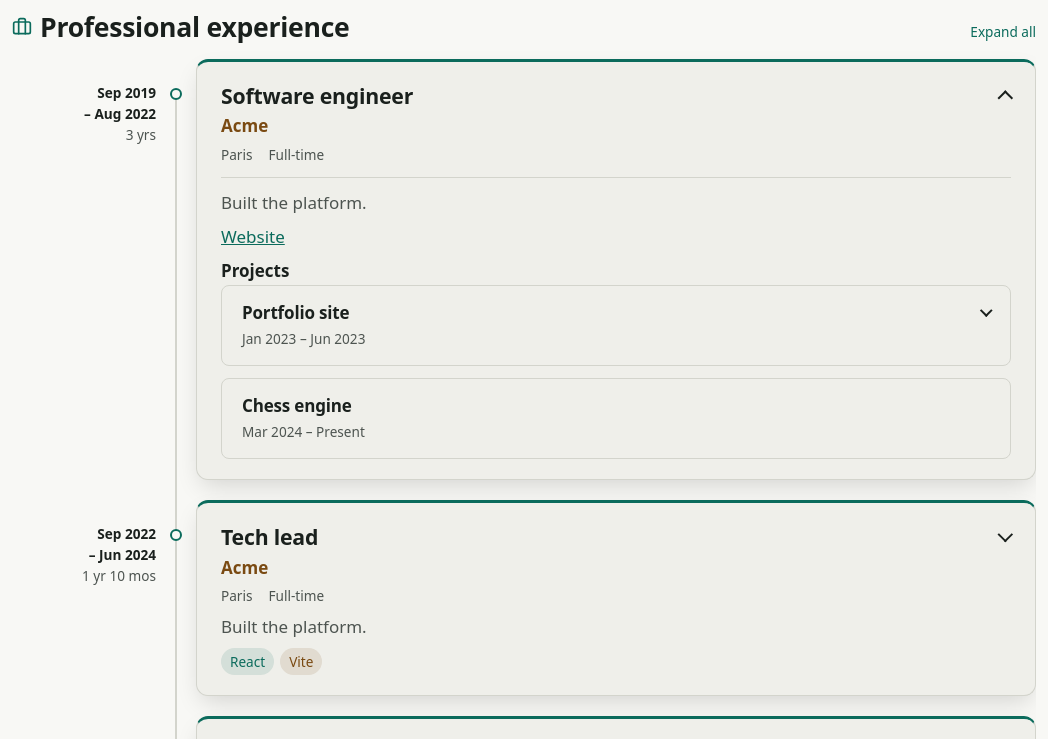
ExperienceSection › collapses and expands every experience at once
This screenshot has width=1048, height=739.
Click the button "Expand all": (999, 32) x1=962 y1=17 x2=1036 y2=46
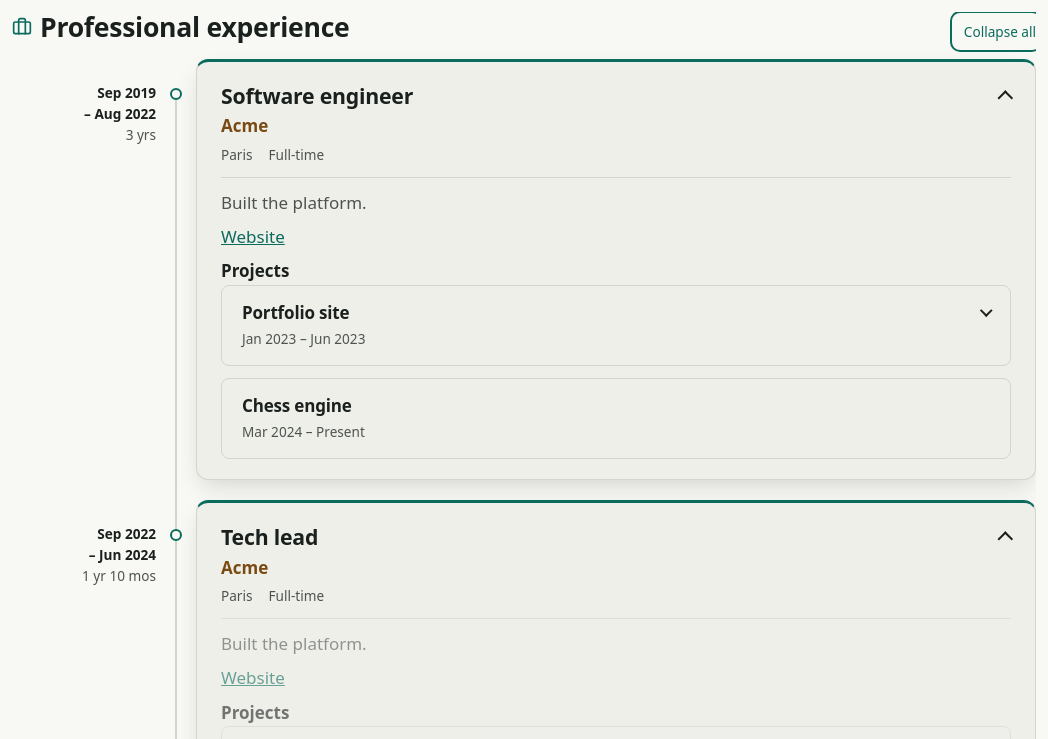
Expected: the button "Tech lead" is expanded, x1=221 y1=523 x2=1011 y2=550
Click the button "Collapse all": (996, 32) x1=956 y1=17 x2=1036 y2=46
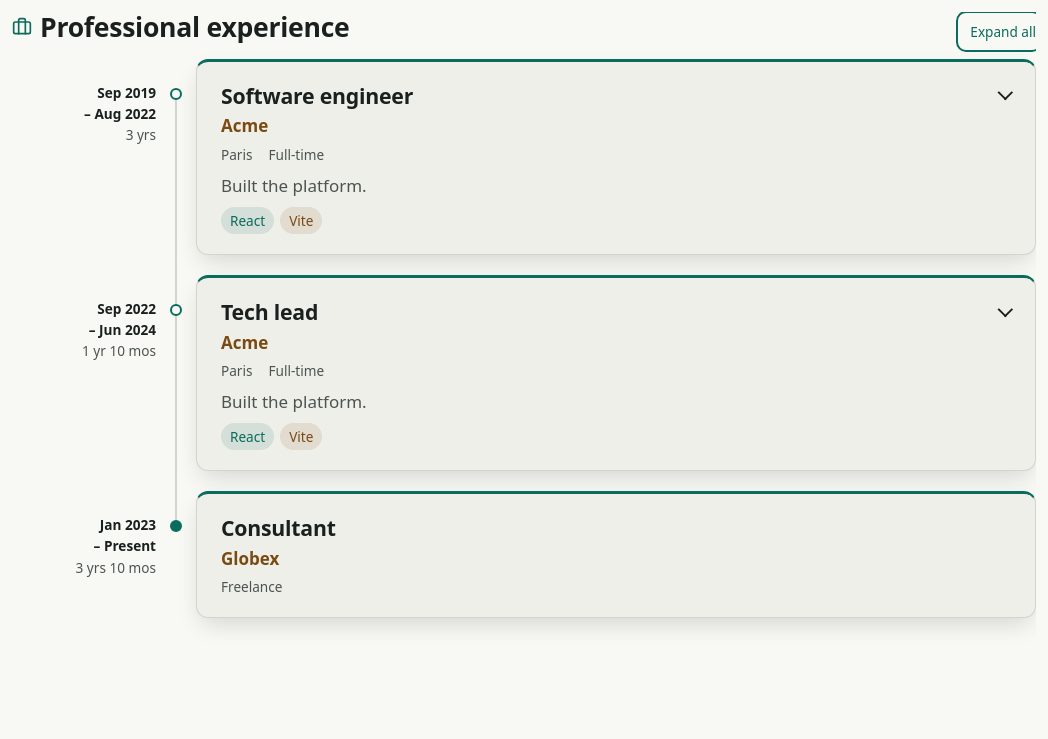
Expected: the button "Software engineer" is collapsed, x1=221 y1=82 x2=1011 y2=109
Expected: the button "Expand all" is shown, x1=962 y1=17 x2=1036 y2=46
